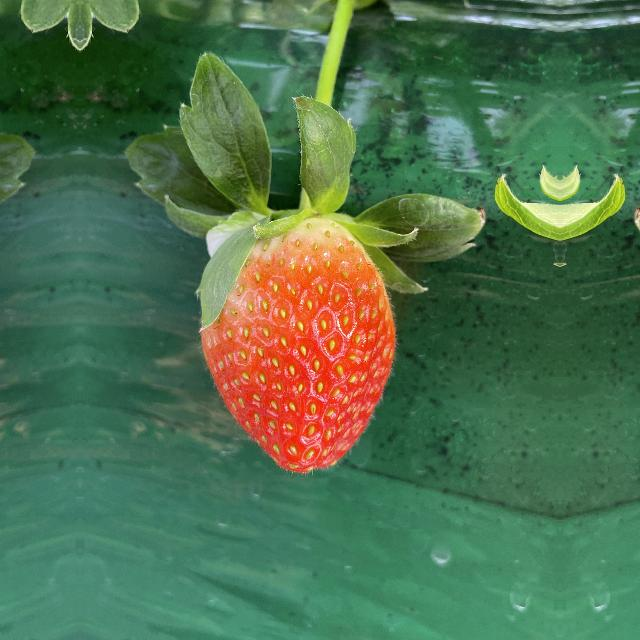Health_100: (194, 205, 406, 479)
